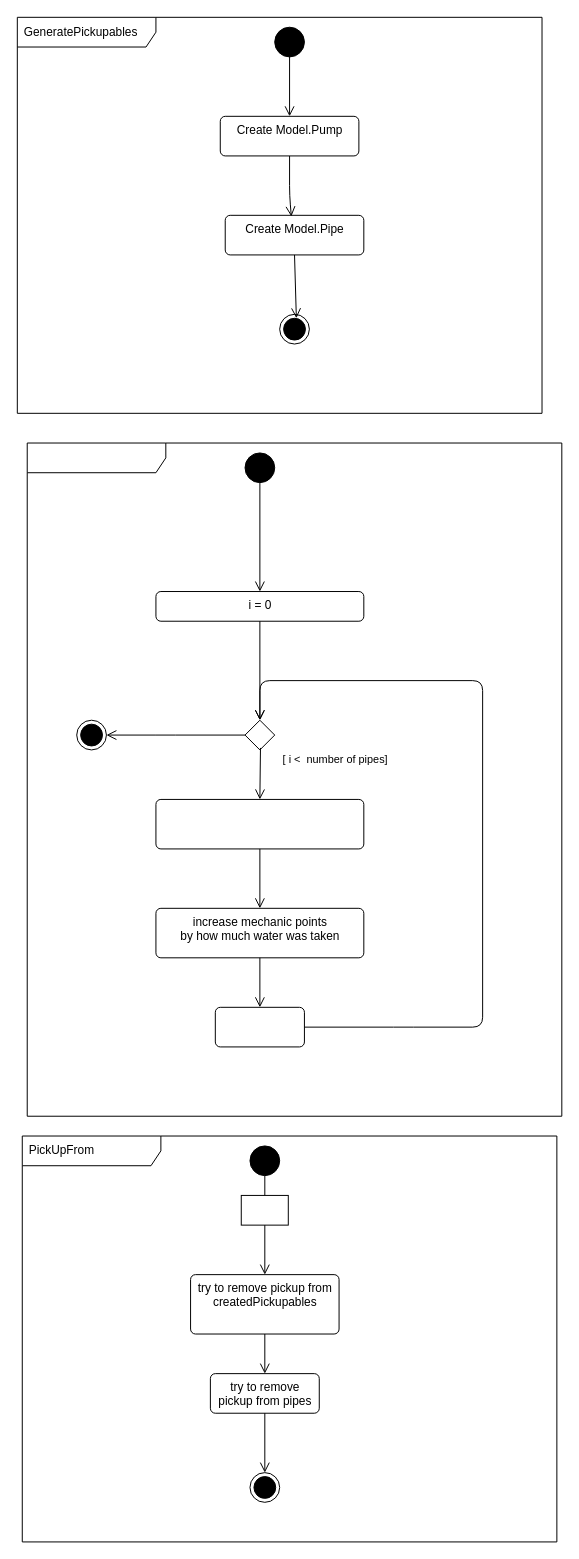
This 579x1559 diagram has some shape labels left out. Here are the shapes that lost their labels. From the top down, the box of each, then its label:
(26, 442, 562, 1116): WaterFlow lehet hogy ezekte szar
(155, 798, 364, 849): try to take 1 water from pipe number i
(214, 1006, 304, 1047): i ++
(240, 1194, 288, 1225): Pickup
